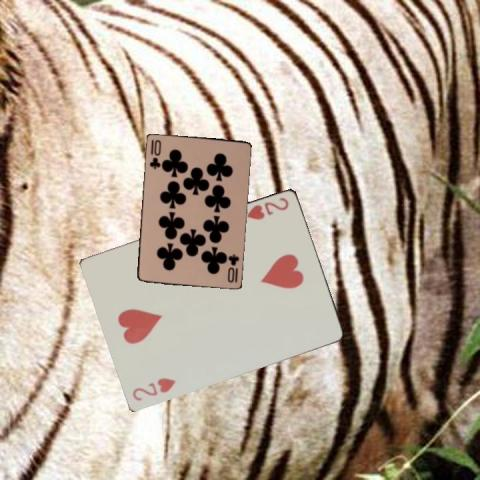10c: (147, 136, 162, 170), (225, 251, 240, 284)
2h: (130, 374, 177, 402), (244, 194, 291, 221)
